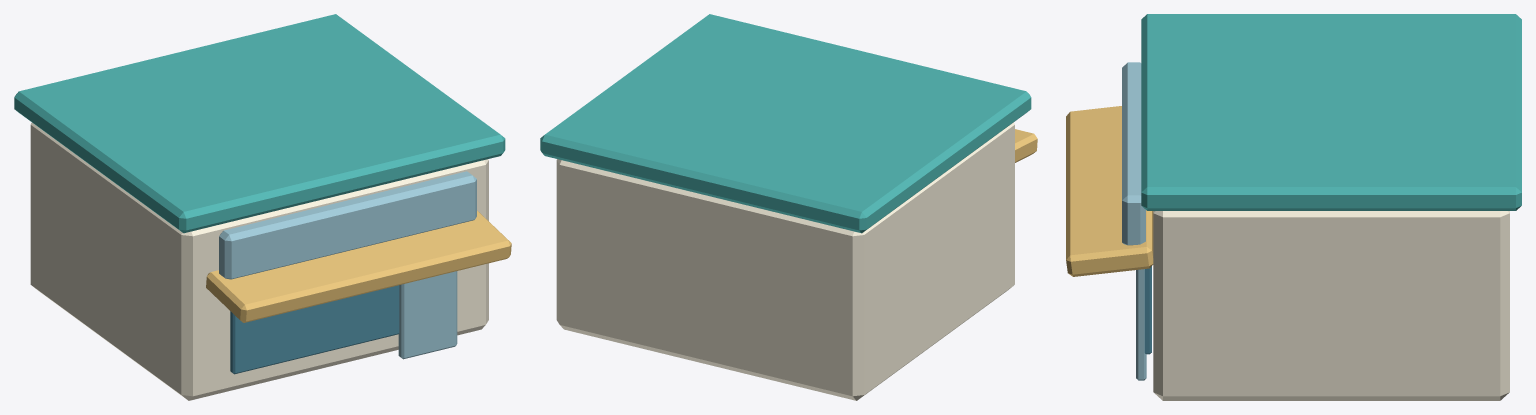
The model's file is COM_KIOSK_1x1_006.glb.
3 views of the same model, side by side, from view 1: azimuth 30°, elevation 25°; view 2: azimuth 150°, elevation 25°; view 3: azimuth 270°, elevation 25° (orthographic). The views are drawn at different scales.
Parts seen in each view (by area): view 1: COM_KIOSK_1x1_006_Visual; view 2: COM_KIOSK_1x1_006_Visual; view 3: COM_KIOSK_1x1_006_Visual.
Part boxes in pixels (left/top/right/bottom): COM_KIOSK_1x1_006_Visual: left=14, top=14, right=511, bottom=400; COM_KIOSK_1x1_006_Visual: left=540, top=14, right=1037, bottom=400; COM_KIOSK_1x1_006_Visual: left=1066, top=14, right=1521, bottom=400.
Size of what is drawn, in the model's own units: 1.75 by 1.01 by 1.89.
